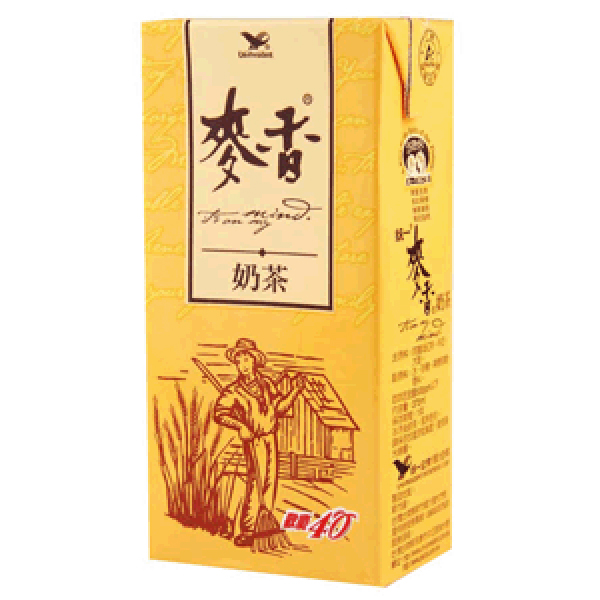milk tea: (145, 18, 456, 591)
